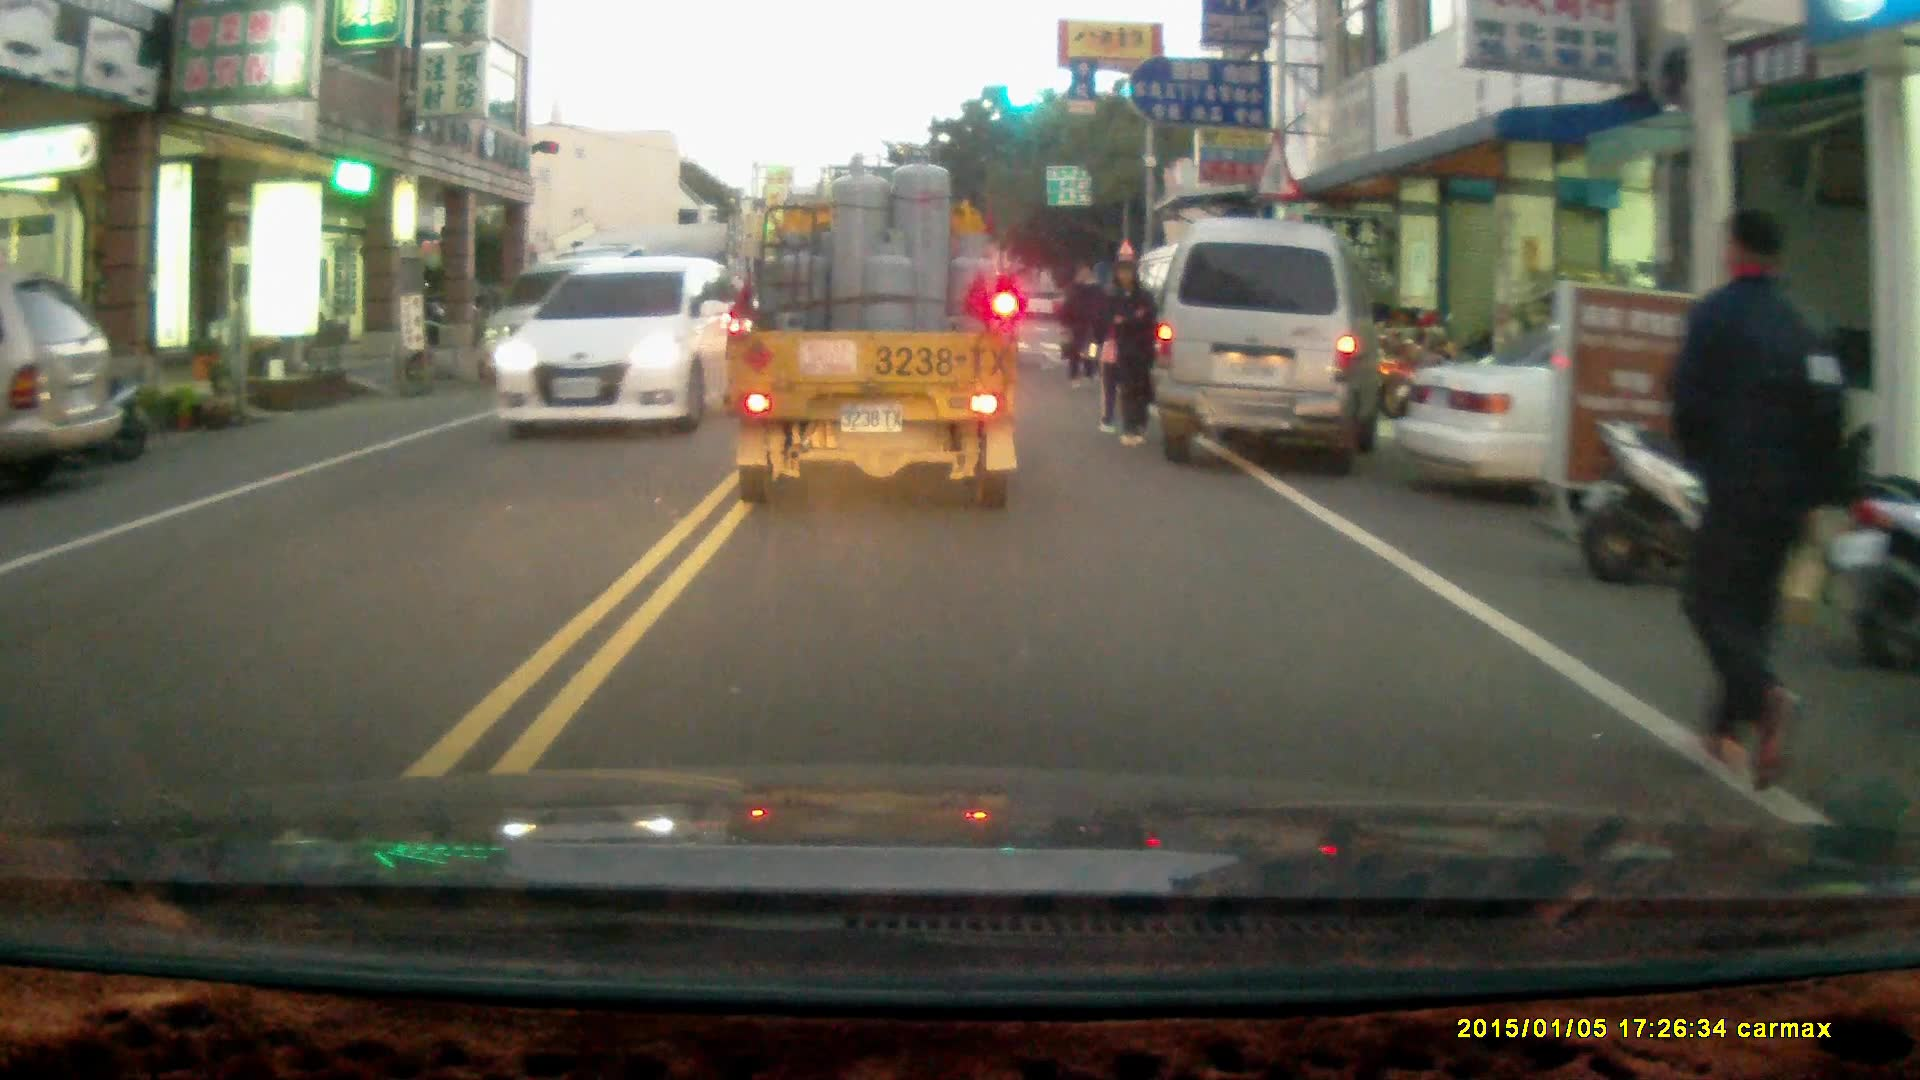pedestrian: (1659, 205, 1854, 801), (1103, 255, 1156, 444), (1060, 256, 1109, 385)
vehicle: (723, 158, 1022, 507), (1391, 311, 1874, 520), (1152, 210, 1389, 467), (495, 252, 753, 428), (1, 270, 126, 477)
